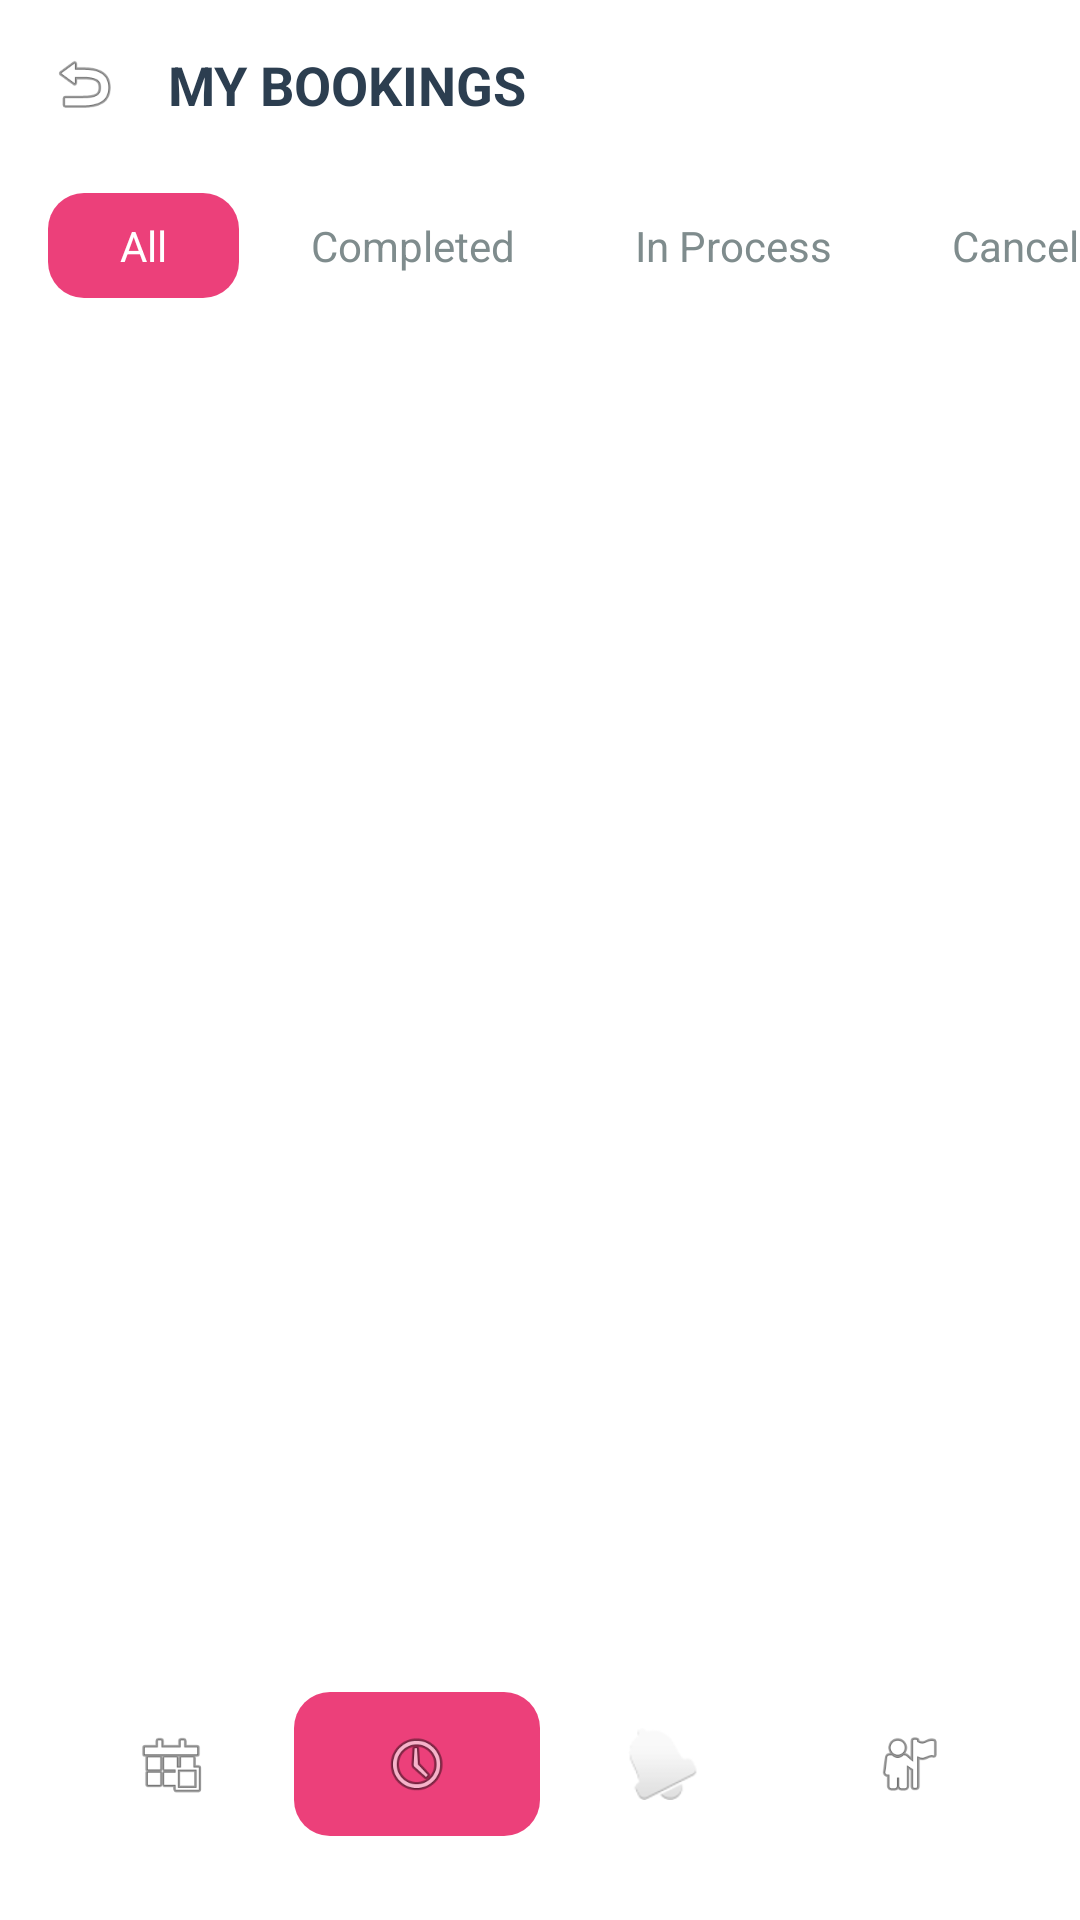

Named icons in this screenshot (1080x1920) and their bounding boxes, (x1, y1, x2, y2):
myplaces: (883, 1737, 937, 1791)
recent history: (294, 1692, 540, 1836)
revert: (59, 61, 111, 108)
today: (142, 1738, 201, 1793)
